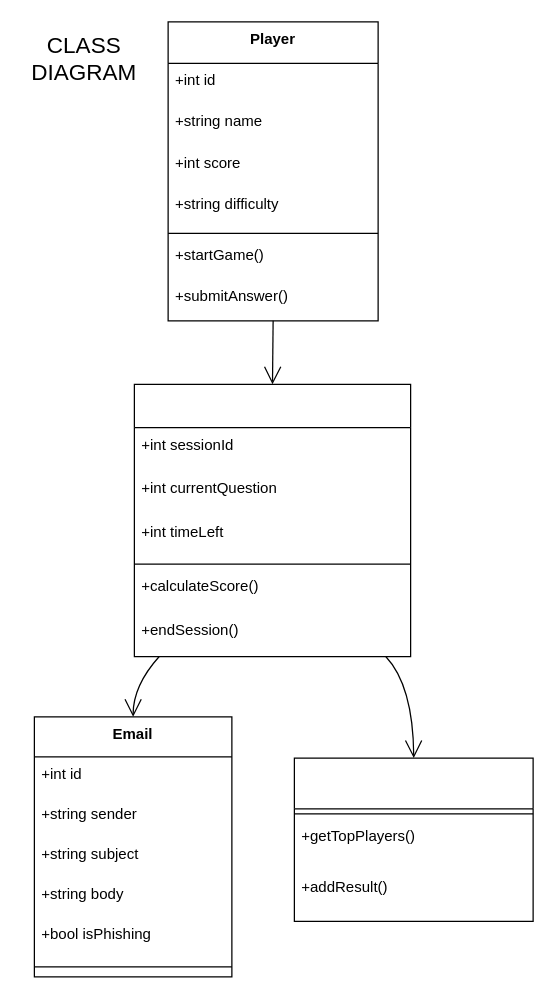
Some shapes in this 555 by 999 pixel diagram are drawn without their labels. The shapes that lost their labels are listed below. From the top down, each one's box as (x1, y1, x2, y2) in pixels, then its label:
(133, 383, 411, 656): GameSession
(293, 757, 533, 921): Leaderboard
